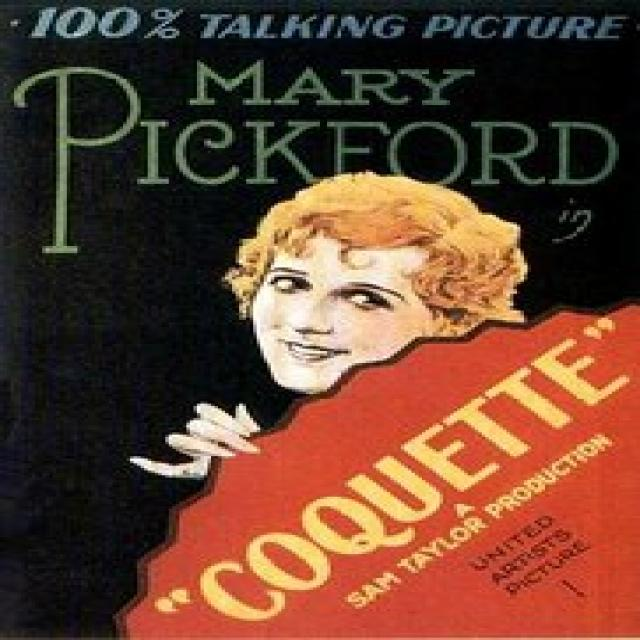movie-judul: (120, 303, 640, 637)
picture: (129, 171, 532, 478)
